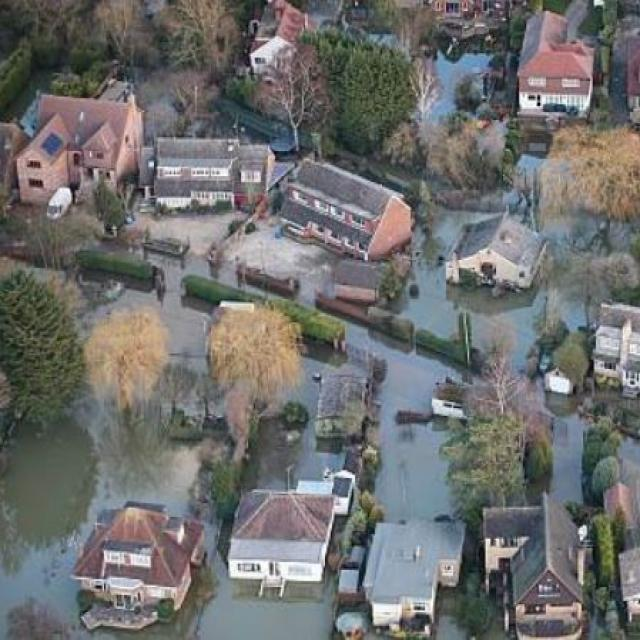flood: (0, 395, 335, 640), (351, 325, 460, 522), (110, 255, 210, 376), (401, 261, 502, 338), (249, 422, 344, 490), (289, 345, 342, 418), (432, 54, 490, 119), (553, 415, 587, 502), (502, 291, 546, 350), (434, 211, 484, 252), (623, 441, 640, 500), (562, 301, 585, 326), (220, 263, 235, 284)
house: (14, 86, 138, 206), (278, 162, 410, 266), (82, 501, 198, 613), (492, 497, 588, 629), (228, 480, 346, 584), (151, 132, 272, 216), (514, 14, 596, 130), (362, 521, 448, 629), (449, 212, 550, 298), (590, 301, 640, 394), (248, 4, 304, 76), (314, 377, 368, 440), (3, 602, 66, 640), (618, 547, 640, 618)
